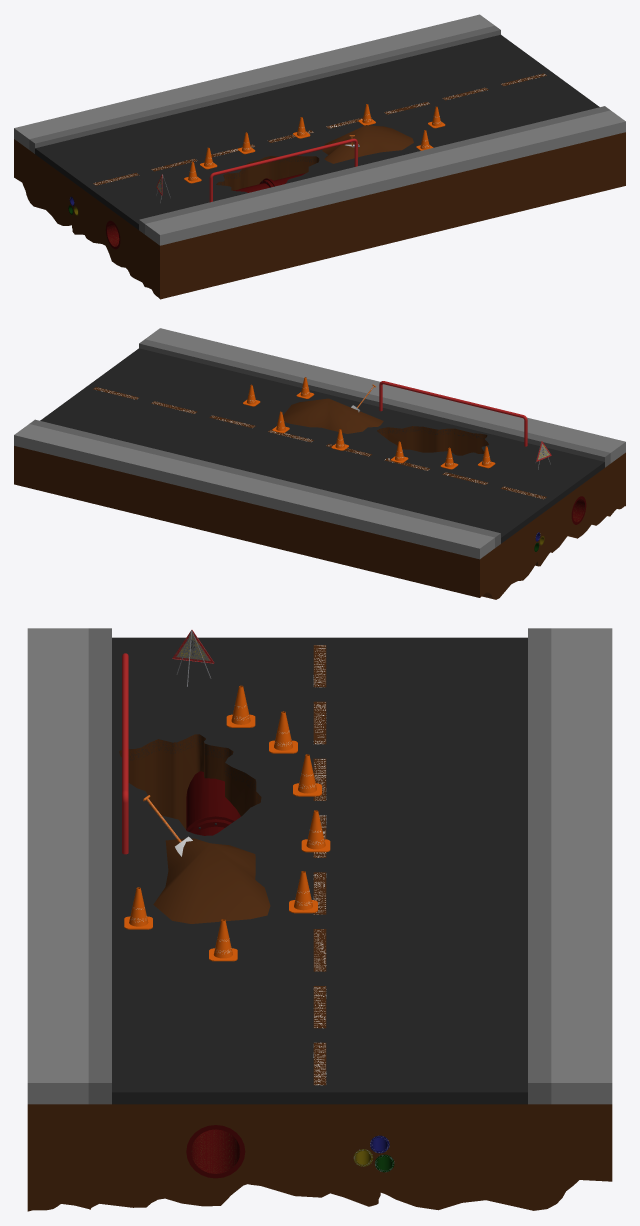
File: travaux.dae
3 renders of one model, top to bottom at view 1: azimuth 30°, elevation 25°; view 2: azimuth 150°, elevation 25°; view 3: azimuth 270°, elevation 25°, orthographic. The views are drawn at different scales.
Parts seen in each view (by area): view 1: group_0 (×9), group_10, group_41; view 2: group_0 (×8), group_10, group_41; view 3: group_0 (×11), group_10, group_41.
Boxes of the visible parts, left/top/right/bottom form: group_0 (×9): left=14, top=14, right=625, bottom=299; group_10: left=322, top=125, right=413, bottom=163; group_41: left=209, top=138, right=357, bottom=202; group_0 (×8): left=14, top=328, right=625, bottom=599; group_10: left=283, top=398, right=383, bottom=433; group_41: left=379, top=381, right=527, bottom=446; group_0 (×11): left=27, top=628, right=612, bottom=1211; group_10: left=153, top=838, right=270, bottom=923; group_41: left=122, top=653, right=128, bottom=854.
Size of the model in its own units: 723 by 393 by 133.
